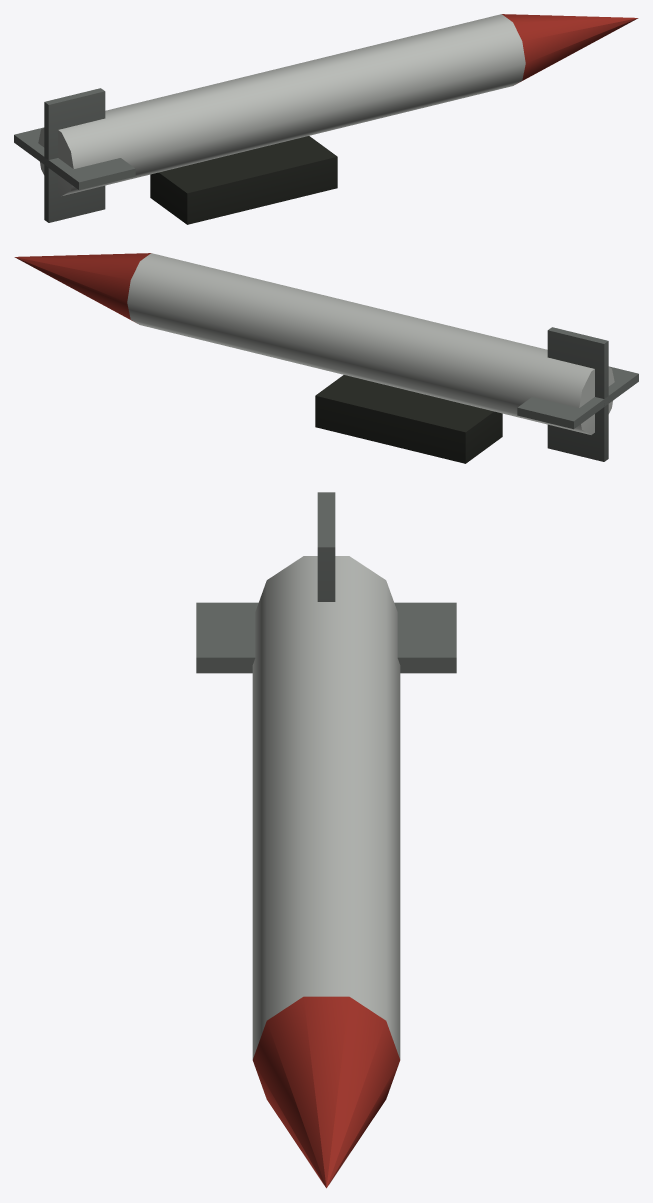
The model's file is m_bmt_262b4576.glb.
3 renders of one model, top to bottom at view 1: azimuth 30°, elevation 25°; view 2: azimuth 150°, elevation 25°; view 3: azimuth 270°, elevation 25°, orthographic. The views are drawn at different scales.
Visible parts, largest first — view 1: mesh; view 2: mesh; view 3: mesh.
Part boxes in pixels (<box>): mesh: <box>14,14,638,224</box>; mesh: <box>14,253,638,463</box>; mesh: <box>196,492,456,1188</box>.
Bounding box in the file's own units: 31.5 × 7 × 6.
